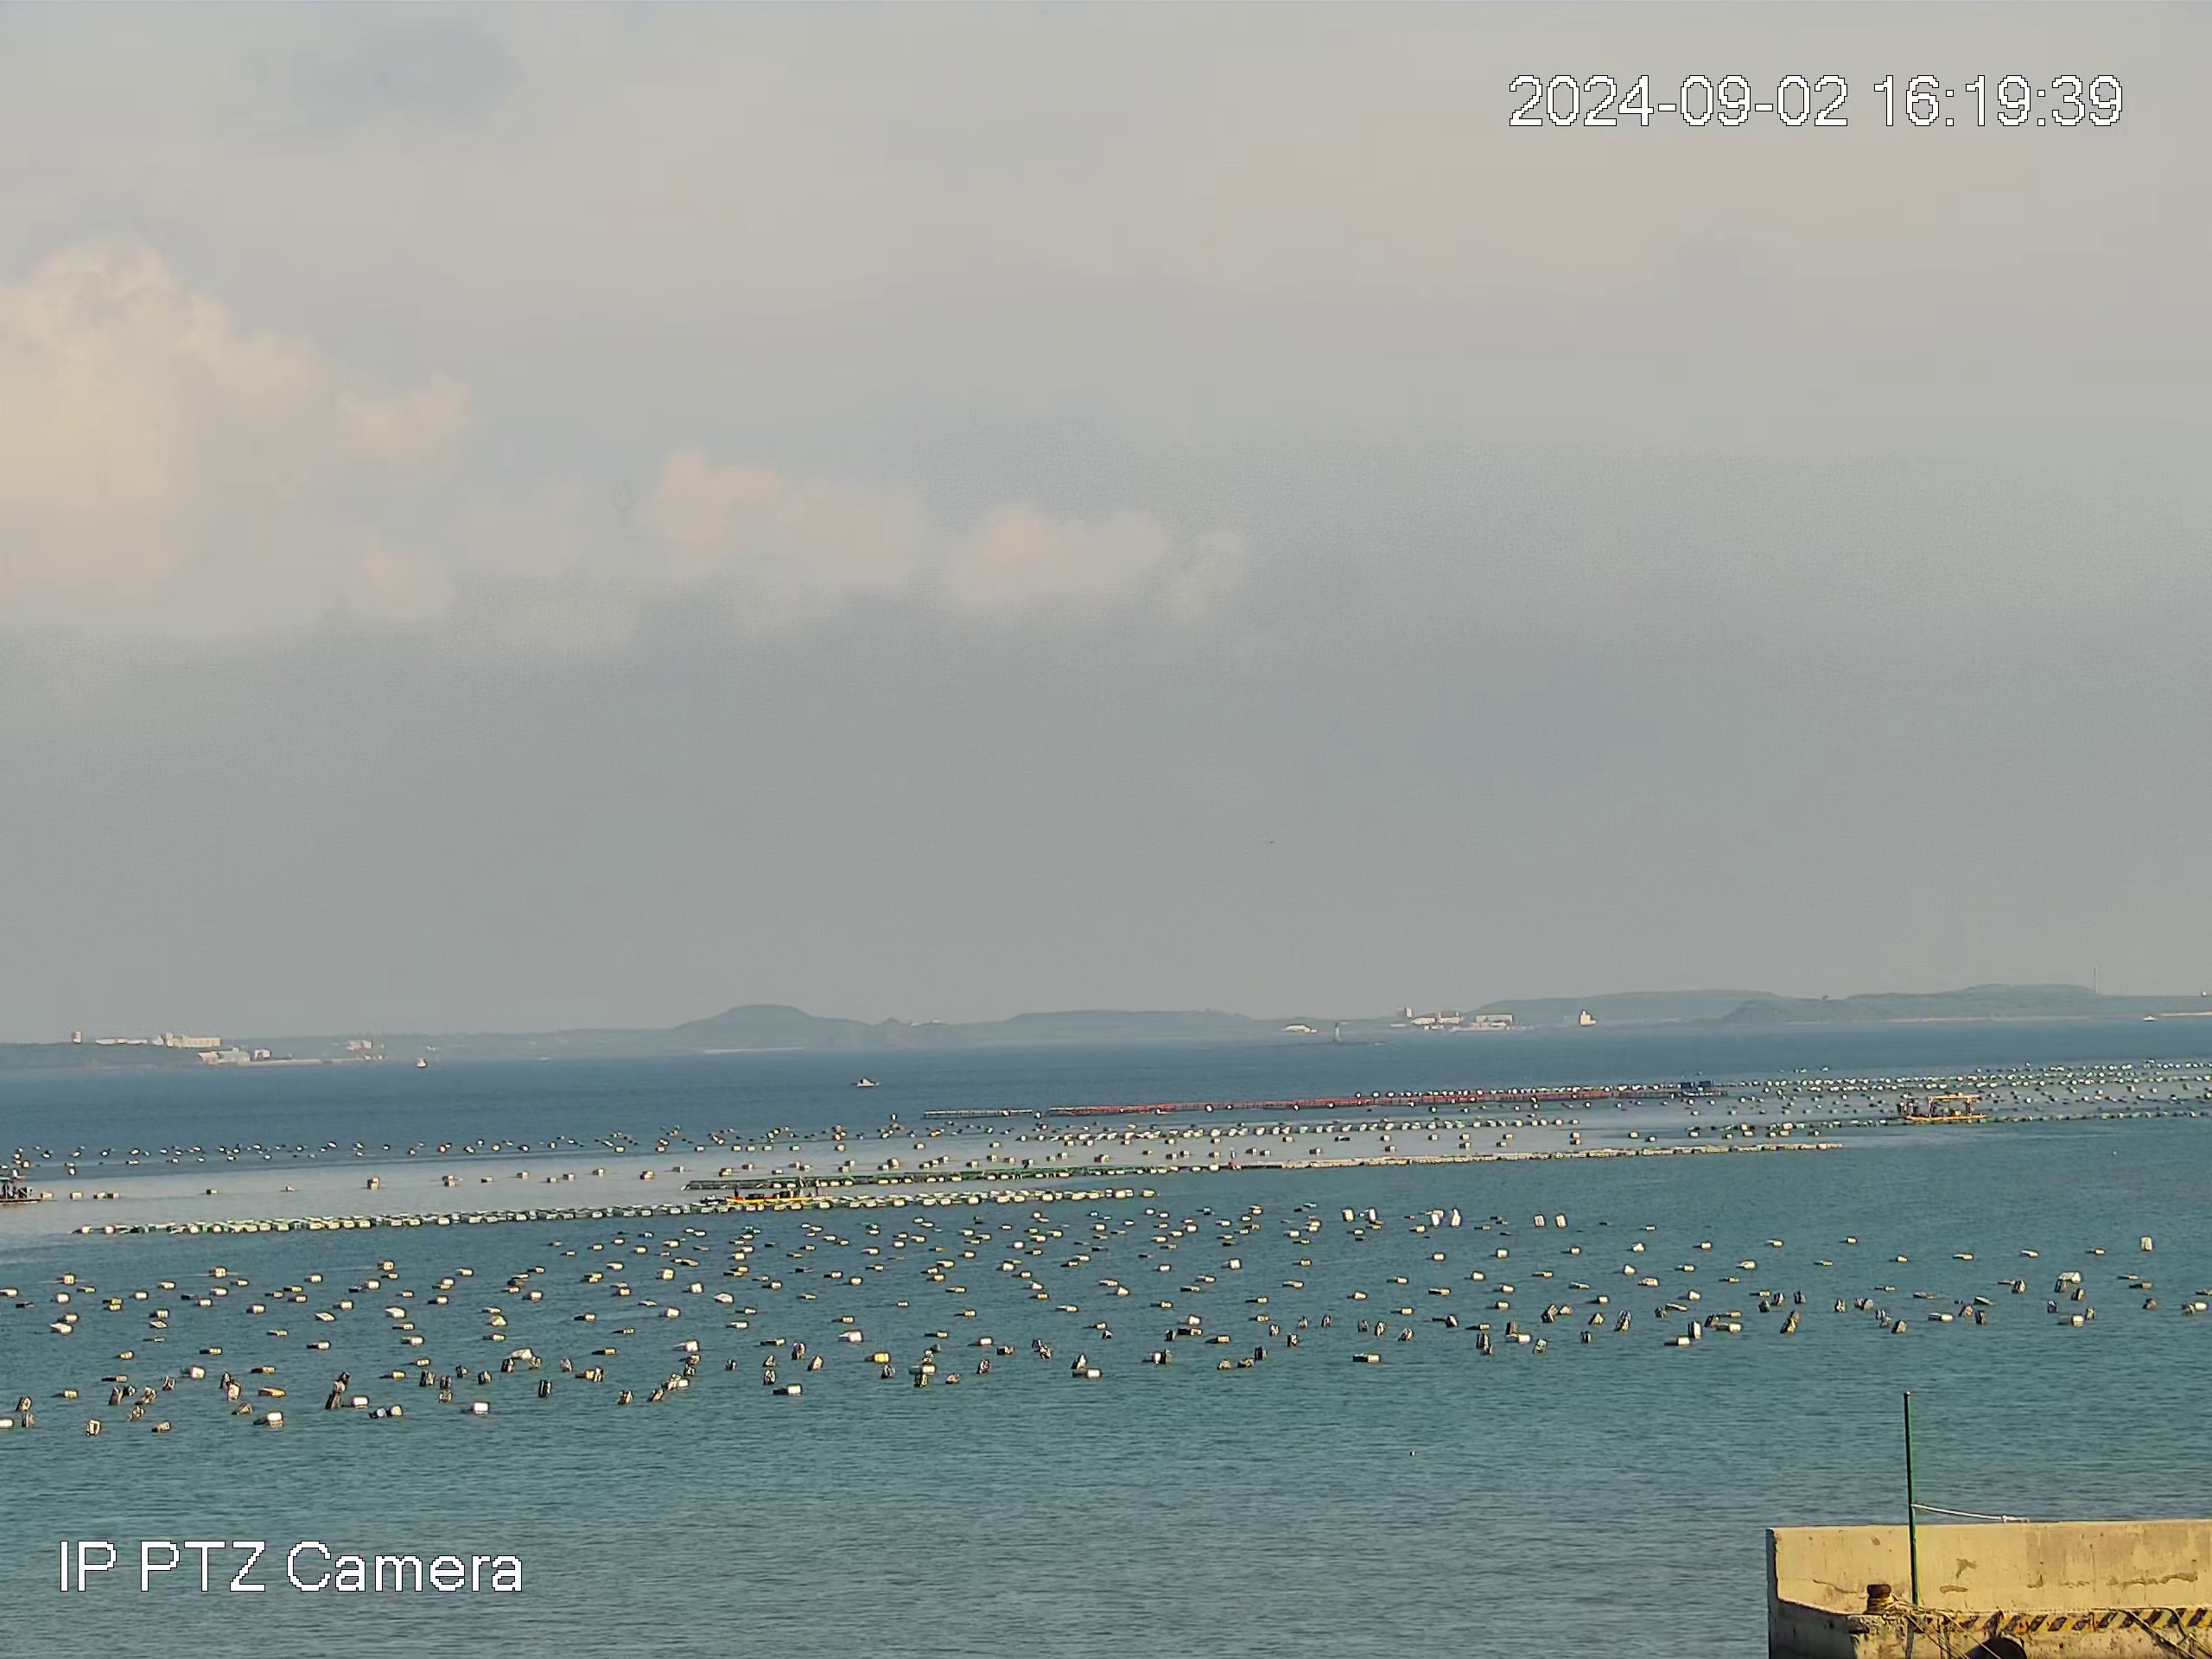boat: (1900, 1093, 1987, 1127), (723, 1180, 813, 1204), (0, 1168, 42, 1204), (855, 1075, 881, 1087)
